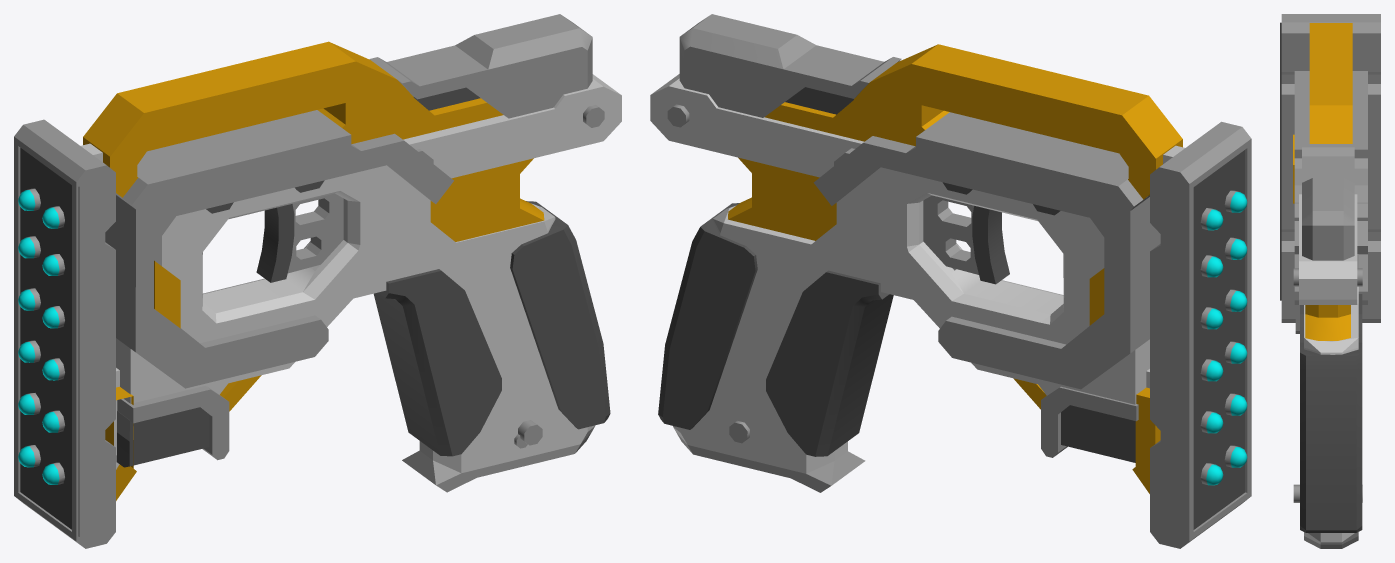
The model's file is SM_STUN01.fbx.
The picture shows the model from 3 angles, left to right: view 1: azimuth 30°, elevation 25°; view 2: azimuth 150°, elevation 25°; view 3: azimuth 270°, elevation 25°; orthographic projection. The views are drawn at different scales.
Parts seen in each view (by area): view 1: SM_STUN01, SM_STUN01_Trigger; view 2: SM_STUN01, SM_STUN01_Trigger; view 3: SM_STUN01.
Part boxes in pixels (x1,y1,x2,y2): SM_STUN01: (14,14,621,548); SM_STUN01_Trigger: (256,193,343,282); SM_STUN01: (650,14,1251,548); SM_STUN01_Trigger: (923,195,1009,284); SM_STUN01: (1280,14,1380,548).
Bounding box in the file's own units: 20.14 × 15.2 × 3.88.
